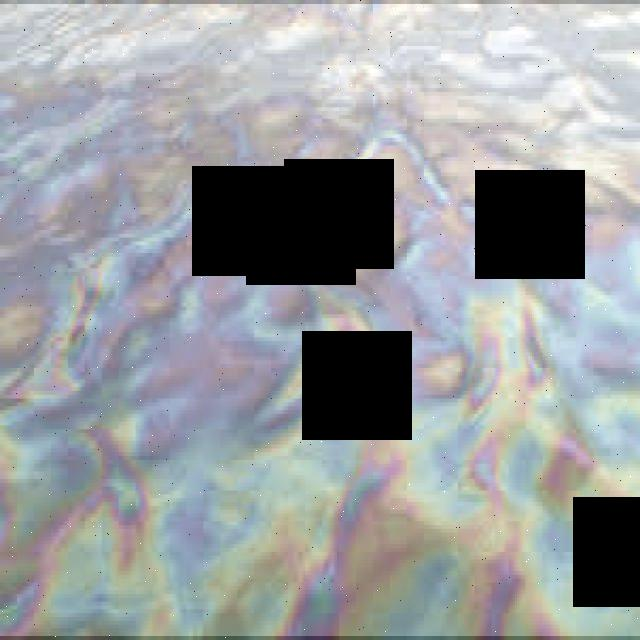oil spill: (0, 4, 640, 636)
